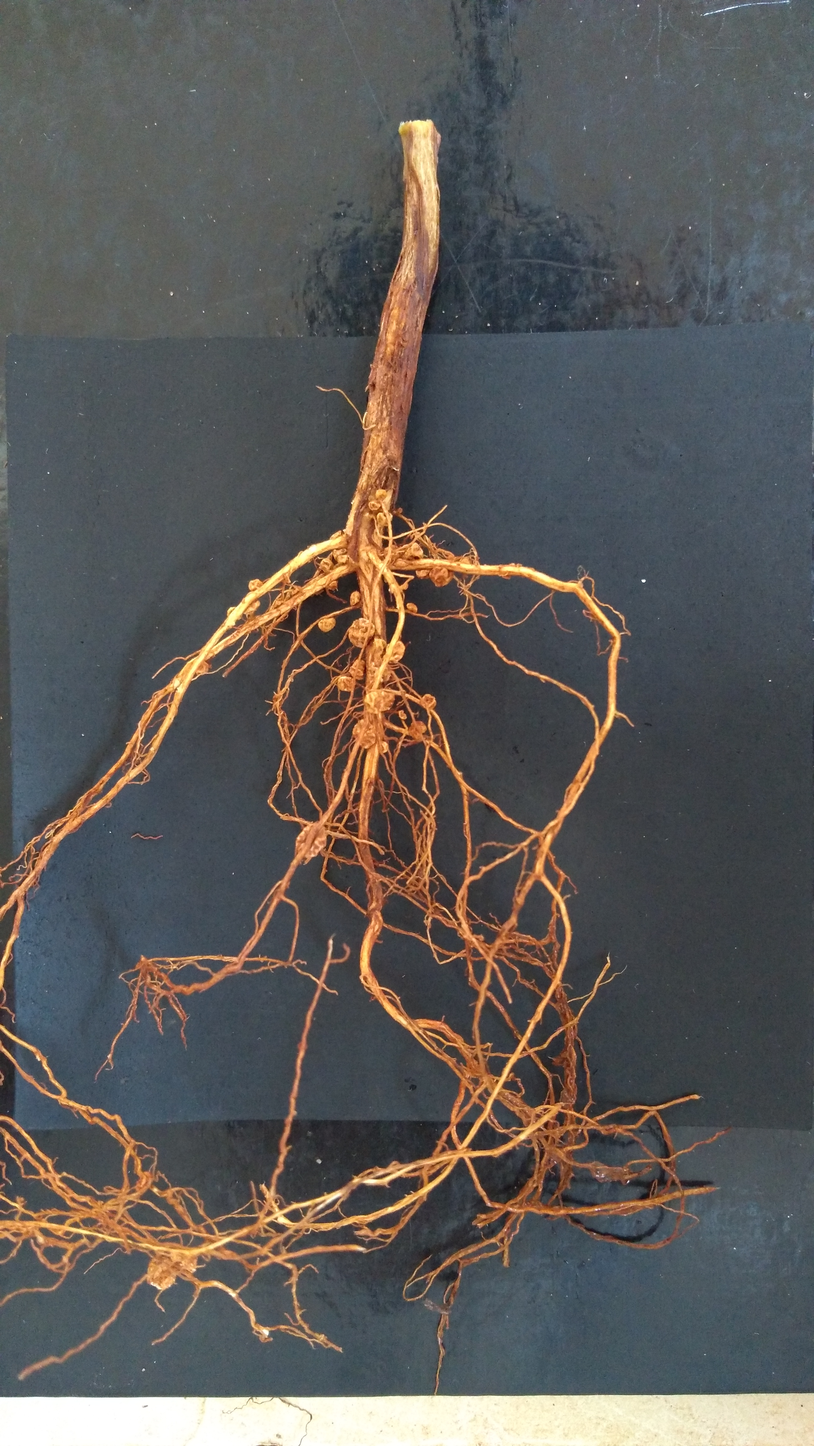nodule: (292, 820, 330, 867), (142, 1257, 179, 1292), (367, 637, 391, 681), (346, 616, 376, 649), (362, 689, 395, 715), (351, 718, 376, 750), (169, 1251, 199, 1275), (428, 564, 456, 588), (384, 639, 407, 665), (401, 541, 428, 562), (348, 657, 367, 681), (407, 720, 428, 741), (327, 528, 346, 550), (336, 674, 356, 694), (419, 692, 438, 711), (382, 543, 402, 561), (316, 617, 337, 633), (242, 599, 261, 616), (246, 577, 266, 593), (375, 511, 393, 528), (318, 557, 335, 573), (414, 567, 433, 581), (196, 660, 211, 675), (349, 589, 361, 607), (330, 547, 348, 558), (374, 489, 388, 502), (223, 605, 238, 617), (336, 553, 351, 565), (366, 500, 381, 511), (405, 602, 418, 614), (380, 740, 389, 754), (398, 709, 408, 720), (328, 580, 338, 591), (395, 507, 403, 516)
